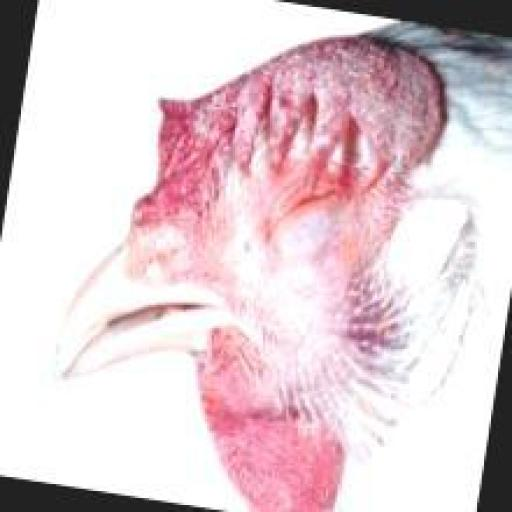disease: (316, 54, 395, 132)
